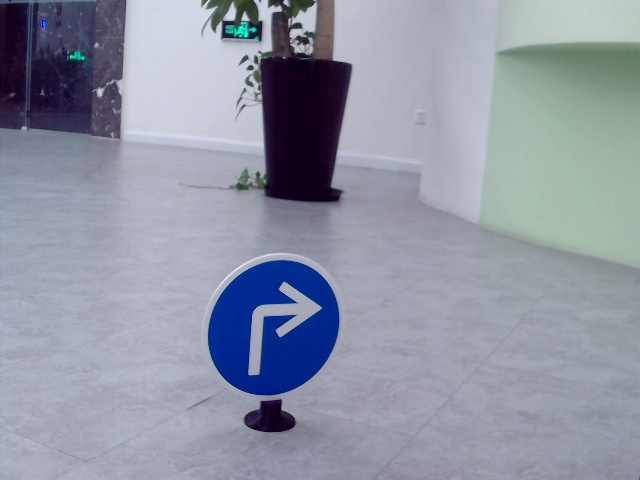turn_right: (240, 273, 320, 381)
